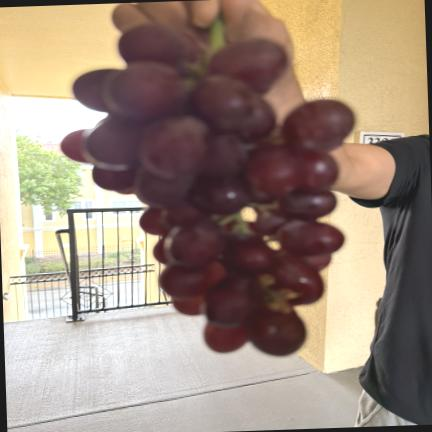grape_cluster: (61, 19, 354, 355)
